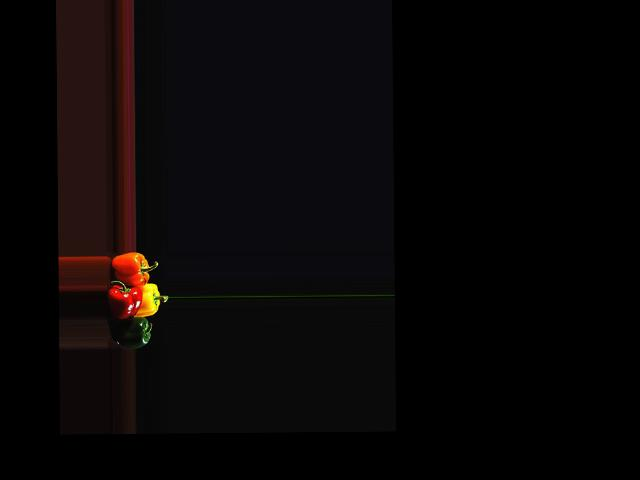bell_pepper: (105, 252, 154, 287)
